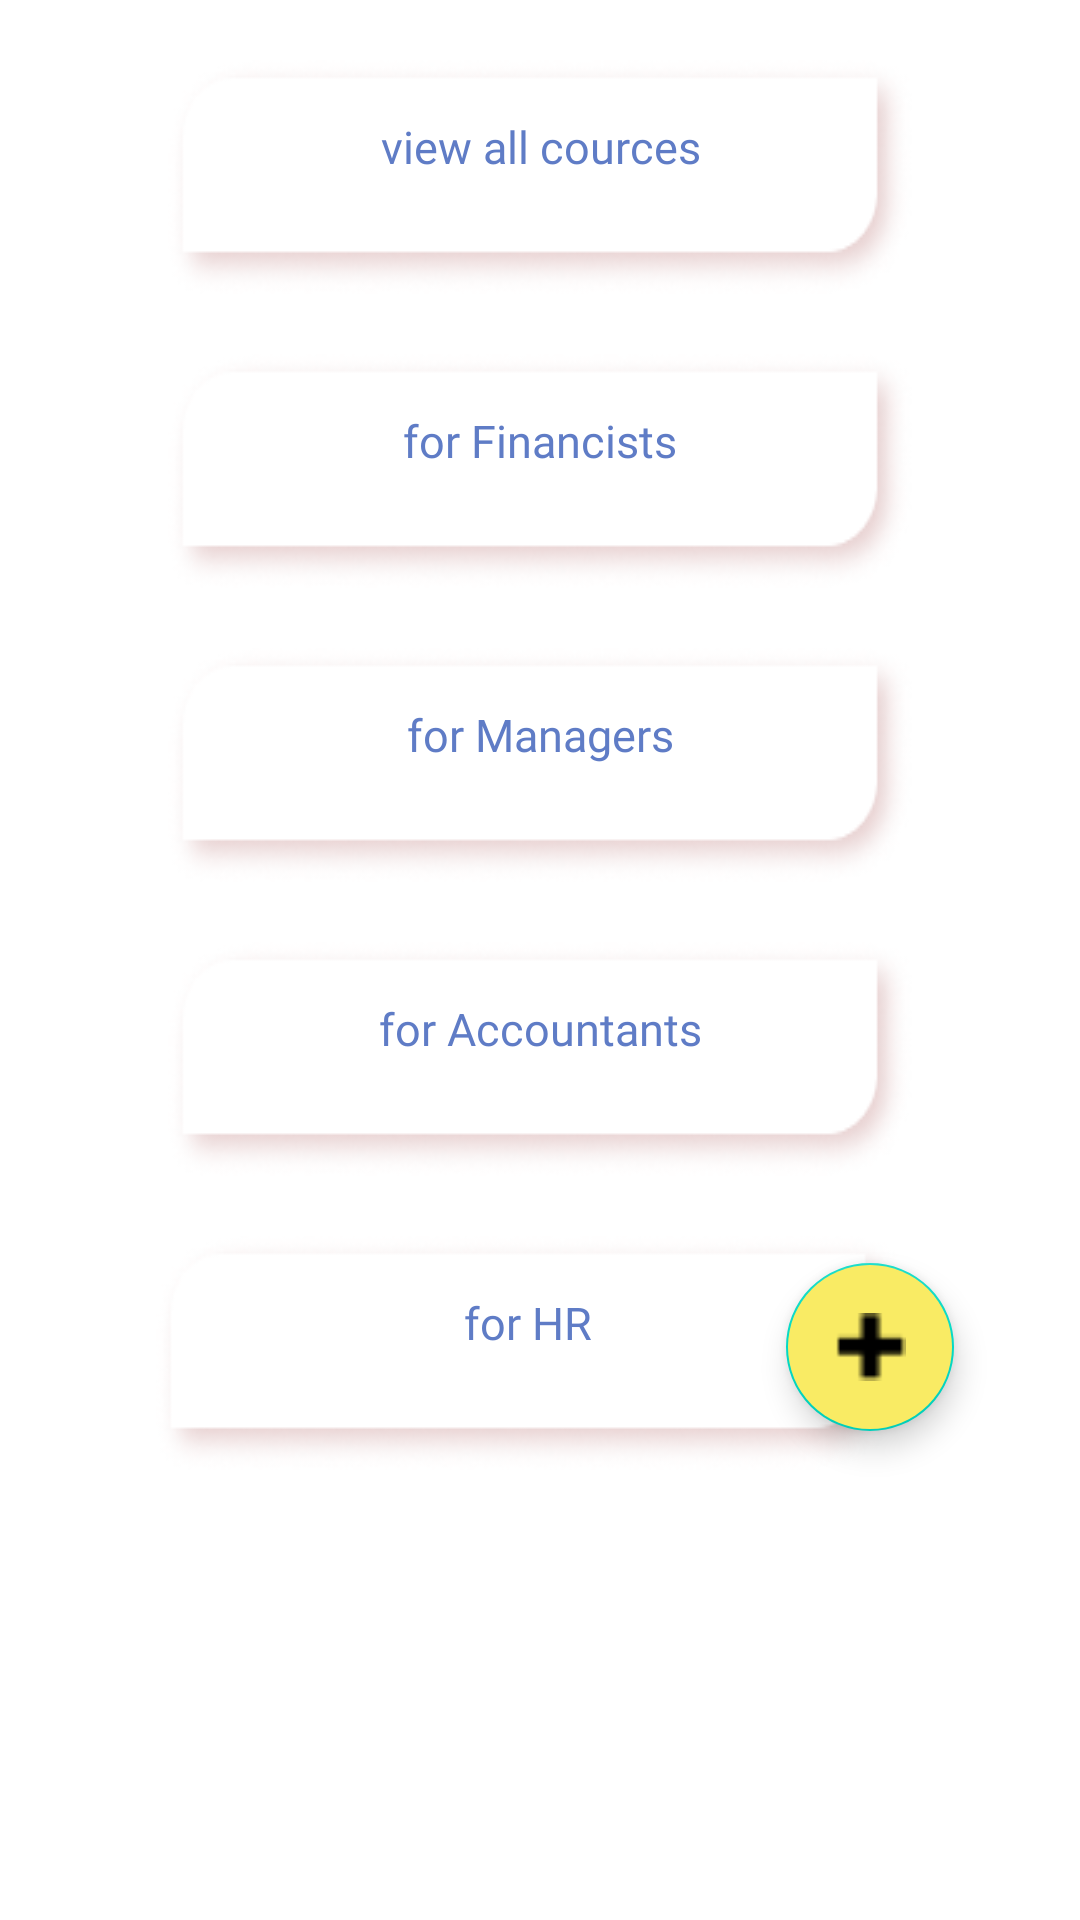

Icon bounding boxes for this 1080×1920 phone screenshot, format (x1, y1, x2, y2):
pluss: (786, 1263, 954, 1431)
